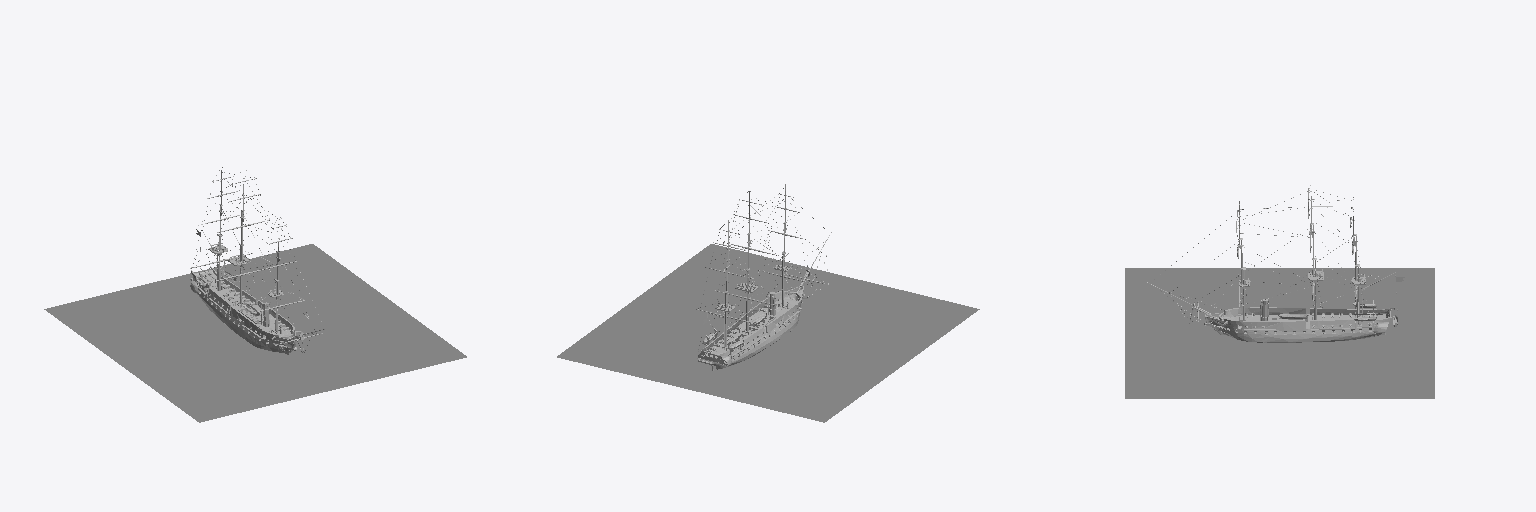
File: NPCShip.obj
3 views of the same model, side by side, from view 1: azimuth 30°, elevation 25°; view 2: azimuth 150°, elevation 25°; view 3: azimuth 270°, elevation 25° (orthographic).
Parts seen in each view (by area): view 1: Water, Skrog, Whitewood, Brownwood, daek; view 2: Water, Skrog, Whitewood, Brownwood, daek; view 3: Water, Skrog, Whitewood, Brownwood, Black.
Boxes of the visible parts, box(x1,y1,x2,y2) form: Water: box(44, 244, 466, 422); Skrog: box(191, 266, 296, 354); Whitewood: box(190, 176, 324, 351); Brownwood: box(193, 170, 301, 333); daek: box(204, 277, 290, 336); Water: box(557, 244, 979, 422); Skrog: box(698, 286, 804, 369); Whitewood: box(696, 194, 831, 365); Brownwood: box(700, 184, 807, 358); daek: box(705, 299, 797, 357); Water: box(1125, 268, 1434, 398); Skrog: box(1204, 307, 1395, 342); Whitewood: box(1147, 188, 1397, 331); Brownwood: box(1193, 196, 1395, 322); Black: box(1149, 185, 1397, 326).
Size of the model in its own units: 100 by 55.33 by 100.